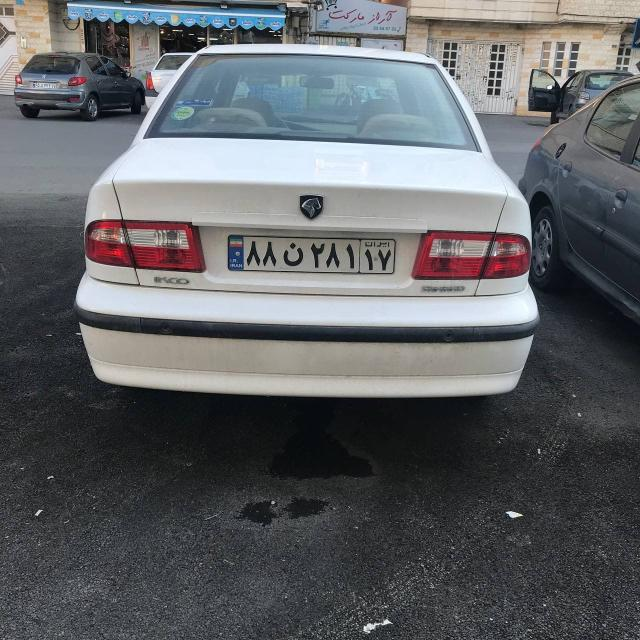Plates: (226, 235, 395, 275)
